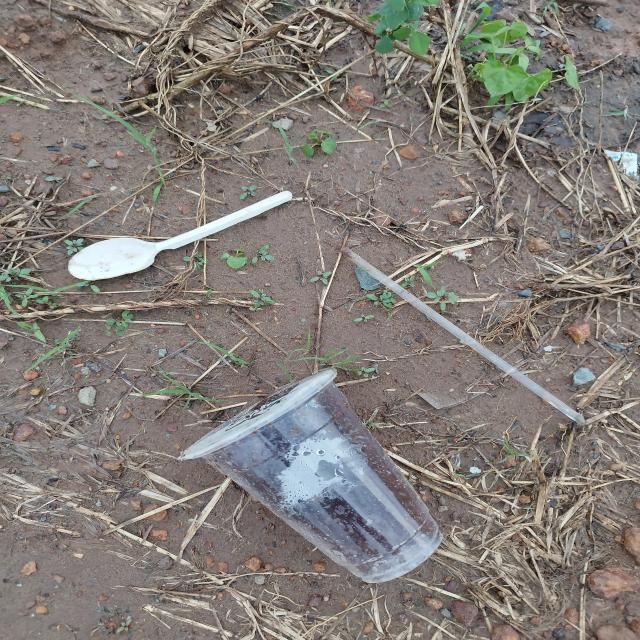drinking straw: (340, 246, 588, 426)
plastic glass: (178, 366, 444, 583)
plastic utensil: (65, 190, 294, 280)
